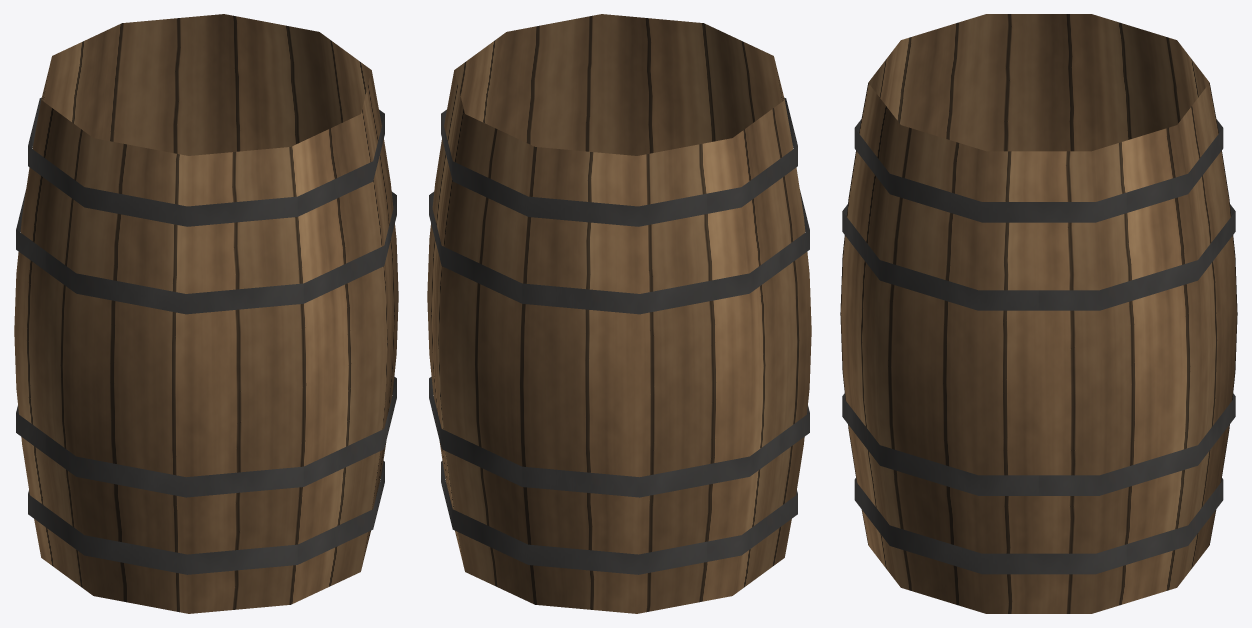
Rendered from Barrel_LOD1.gltf.
3 views of the same model, side by side, from view 1: azimuth 30°, elevation 25°; view 2: azimuth 150°, elevation 25°; view 3: azimuth 270°, elevation 25° (orthographic).
Visible parts, largest first — view 1: Barrel_LOD1; view 2: Barrel_LOD1; view 3: Barrel_LOD1.
Part boxes in pixels (left/top/right/bottom): Barrel_LOD1: left=14, top=14, right=398, bottom=613; Barrel_LOD1: left=427, top=14, right=811, bottom=613; Barrel_LOD1: left=840, top=14, right=1237, bottom=613.
Size of the model in its own units: 0.6657 by 0.9 by 0.7.
2 materials, 2 textured.
